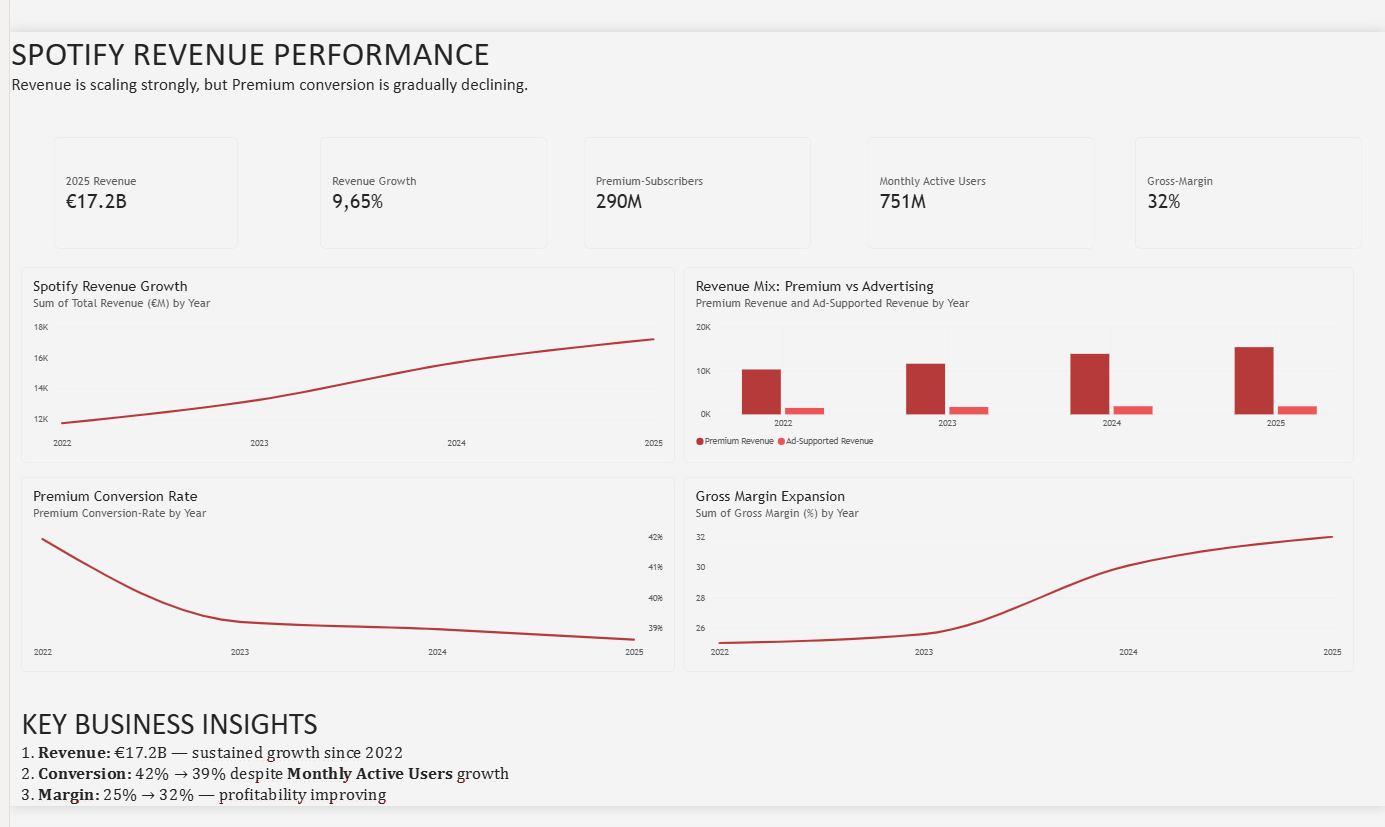

What the dashboard file says about the page in this screenshot:
{"tool":"powerbi","page":{"name":"Page 1","canvas":[1920,1080],"ordinal":0},"visuals":[{"type":"lineChart","title":"Spotify Revenue Growth","fields":{"Category":["Spotify_Annual.Year"],"Y":["Sum(Spotify_Annual.Total Revenue (€M))"]},"box":[15.7,327.9,912.2,273.8],"z":0},{"type":"cardVisual","fields":{"Data":["Spotify_Annual.Revenue 2025 Display"]},"box":[61.7,146.1,257.3,156.4],"z":1},{"type":"cardVisual","fields":{"Data":["Spotify_Annual.Revenue Growth 2025"]},"box":[432.2,146.1,317,156],"z":2},{"type":"cardVisual","fields":{"Data":["Spotify_Annual.Premium Subscribers Display"]},"box":[800.7,146.1,317,156],"z":3},{"type":"cardVisual","fields":{"Data":["Spotify_Annual.MAUs Display"]},"box":[1195.9,146.1,317,156],"z":4},{"type":"cardVisual","fields":{"Data":["Spotify_Annual.Gross Margin 2025"]},"box":[1570.5,146.1,317,156],"z":5},{"type":"clusteredColumnChart","title":"Revenue Mix: Premium vs Advertising","fields":{"Category":["Spotify_Annual.Year"],"Y":["Sum(Spotify_Annual.Premium Revenue (€M))","Sum(Spotify_Annual.Ad-Supported Revenue (€M))"]},"box":[940.1,327.9,934.9,273.8],"z":6},{"type":"lineChart","title":"Premium Conversion Rate","fields":{"Category":["Spotify_Annual.Year"],"Y2":["Spotify_Annual.Premium Conversion-Rate"]},"box":[15.7,620.9,912.2,272.1],"z":7},{"type":"lineChart","title":"Gross Margin Expansion","fields":{"Category":["Spotify_Annual.Year"],"Y":["Sum(Spotify_Annual.Gross Margin (%))"]},"box":[940.1,620.9,934.9,272.1],"z":8},{"type":"textbox","box":[1.7,0,861.6,92.4],"z":9},{"type":"textbox","box":[15.7,938.4,1887.2,141.3],"z":10}]}

Visuals, with their boxes on the page's 1920x1080 design canvas (x1, y1, x2, y2). These are canvas units, not pixel positions in the 1385x827 screenshot, which may show the page scaled, cropped or inside an application window:
"Spotify Revenue Growth" lineChart: crop(16, 328, 928, 602)
cardVisual - Spotify_Annual.Revenue 2025 Display: crop(62, 146, 319, 302)
cardVisual - Spotify_Annual.Revenue Growth 2025: crop(432, 146, 749, 302)
cardVisual - Spotify_Annual.Premium Subscribers Display: crop(801, 146, 1118, 302)
cardVisual - Spotify_Annual.MAUs Display: crop(1196, 146, 1513, 302)
cardVisual - Spotify_Annual.Gross Margin 2025: crop(1570, 146, 1888, 302)
"Revenue Mix: Premium vs Advertising" clusteredColumnChart: crop(940, 328, 1875, 602)
"Premium Conversion Rate" lineChart: crop(16, 621, 928, 893)
"Gross Margin Expansion" lineChart: crop(940, 621, 1875, 893)
textbox: crop(2, 0, 863, 92)
textbox: crop(16, 938, 1903, 1080)
